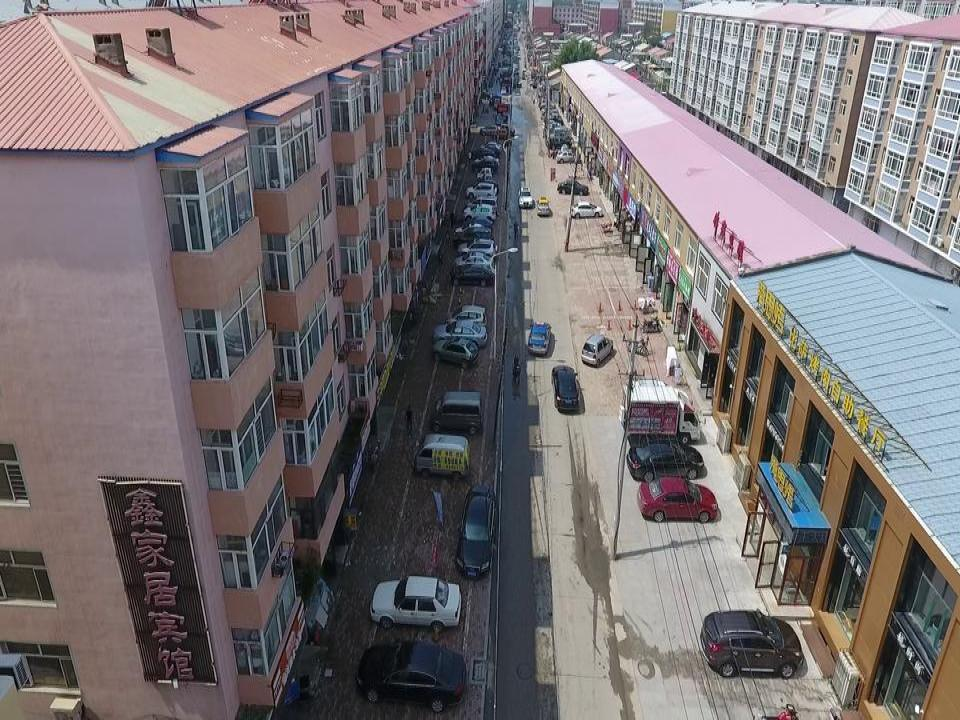car: (354, 640, 468, 712), (698, 608, 805, 679), (369, 577, 461, 628), (636, 477, 718, 524), (627, 436, 706, 484), (458, 483, 497, 580), (431, 336, 479, 369), (550, 364, 581, 413), (432, 319, 488, 345), (581, 332, 614, 367), (446, 265, 496, 287), (527, 320, 552, 355), (452, 252, 492, 272), (456, 240, 497, 257), (453, 228, 494, 243), (568, 200, 603, 217), (455, 220, 491, 236), (556, 180, 589, 195), (464, 204, 496, 219), (465, 183, 499, 197), (464, 195, 496, 209), (460, 216, 492, 229), (517, 187, 533, 209), (535, 197, 551, 216)
truck: (620, 378, 703, 442)
van: (413, 434, 469, 478), (428, 391, 482, 433), (443, 304, 486, 327)
